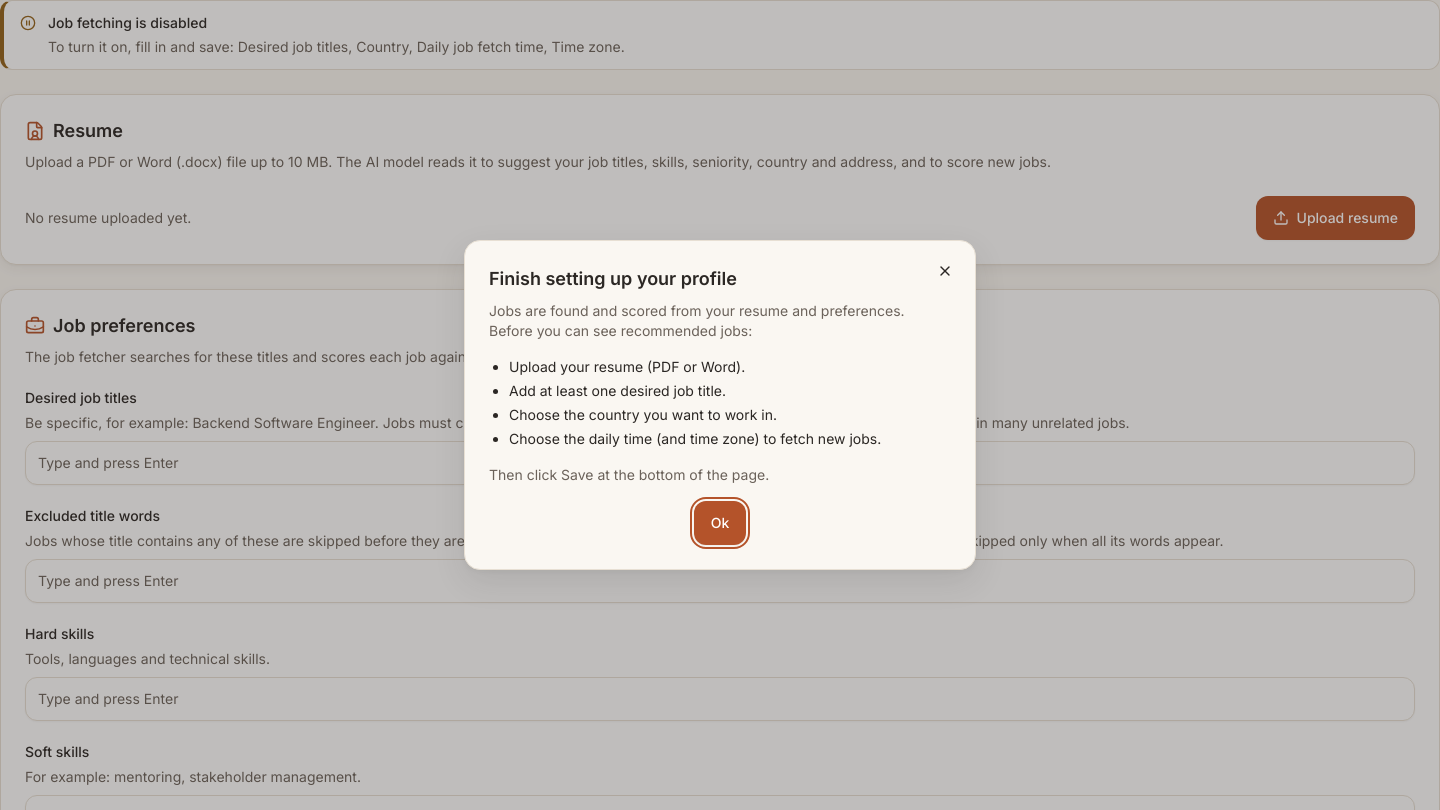
Test case: ProfileForm › pre-fills a detected country and its currency until a country is saved
Click the button "Ok" at (720, 523), box [694, 501, 746, 545]
(page scrolled)
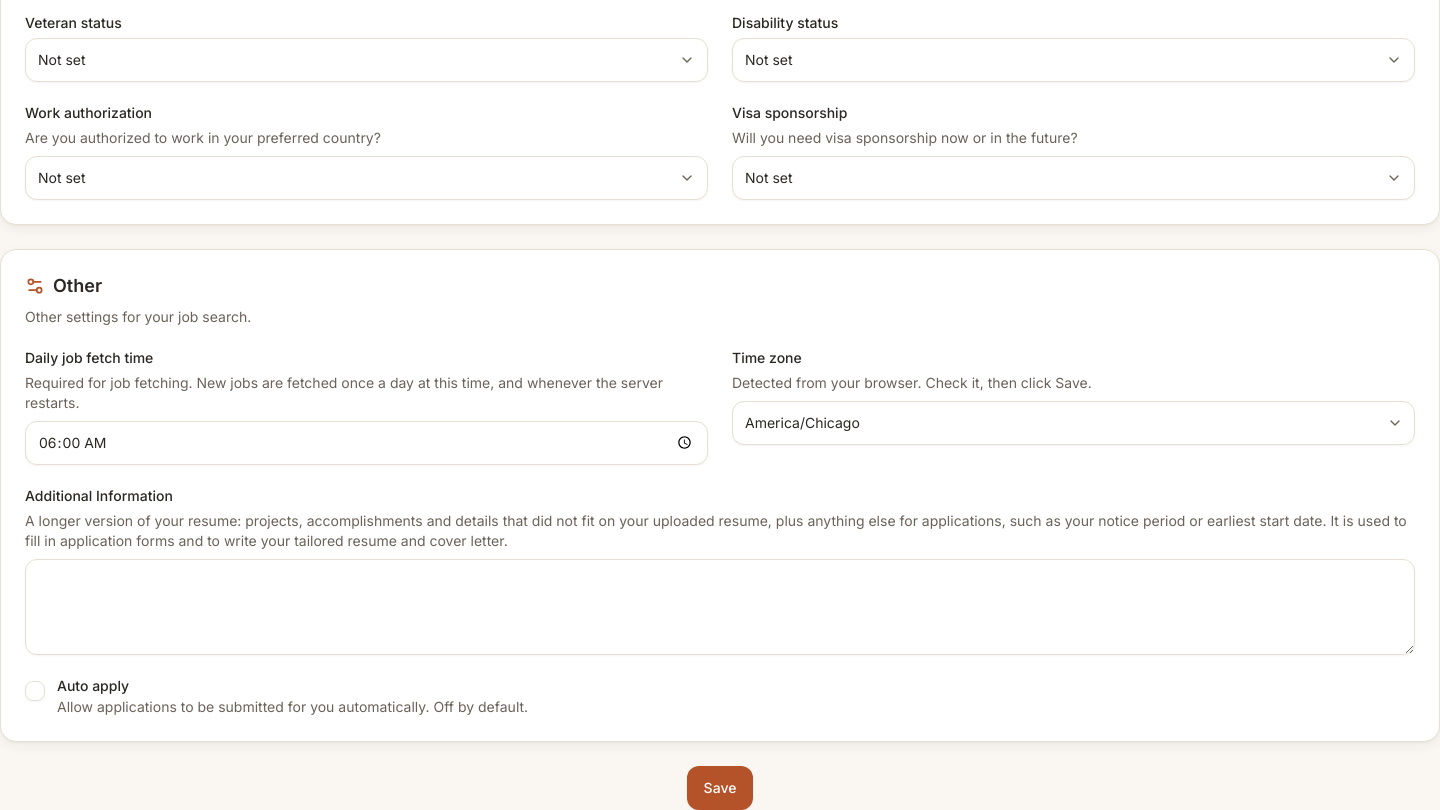
Click the button "Save" at (720, 788), box [687, 766, 753, 809]
(page scrolled)
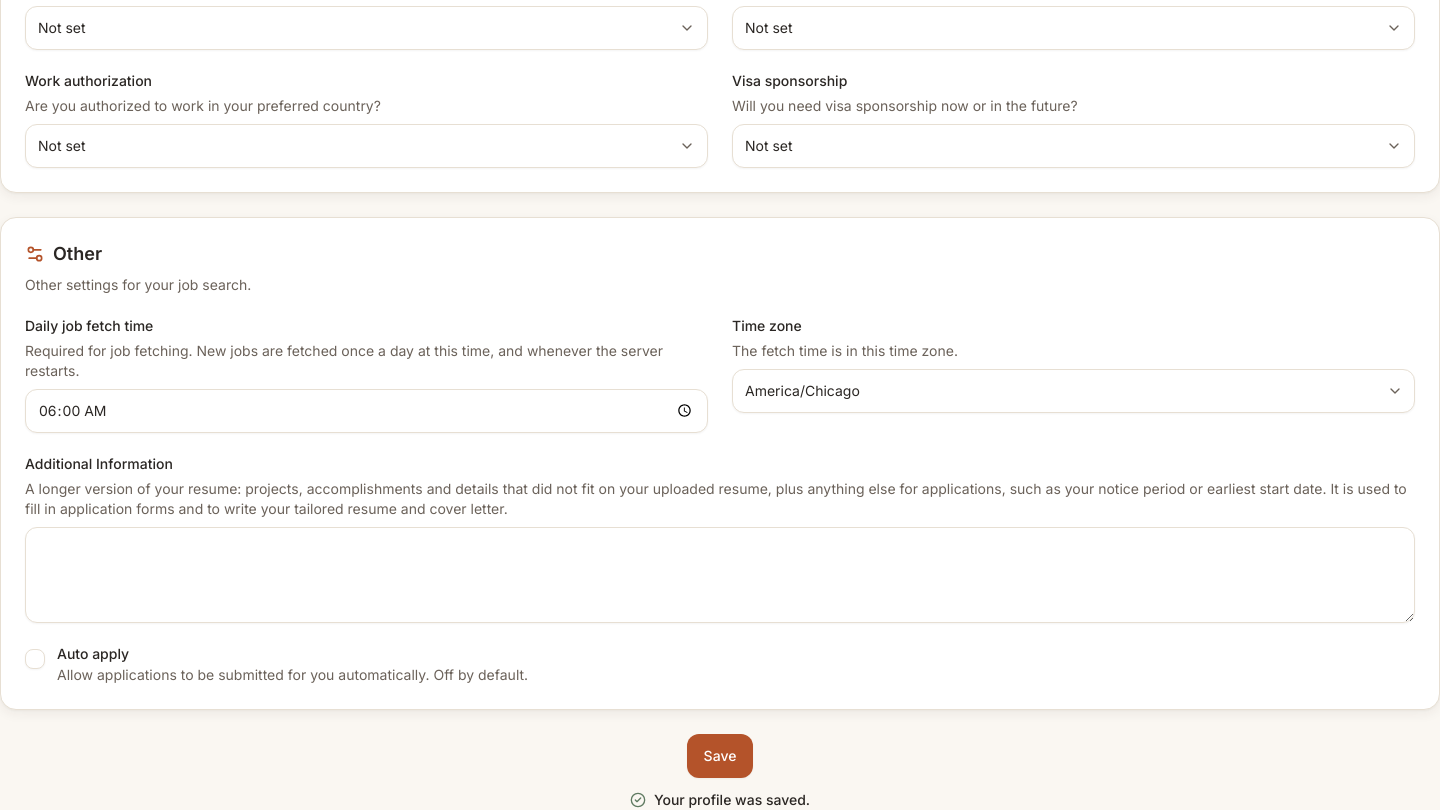
Expected: the text "Your profile was saved." is shown, [630, 790, 810, 809]
